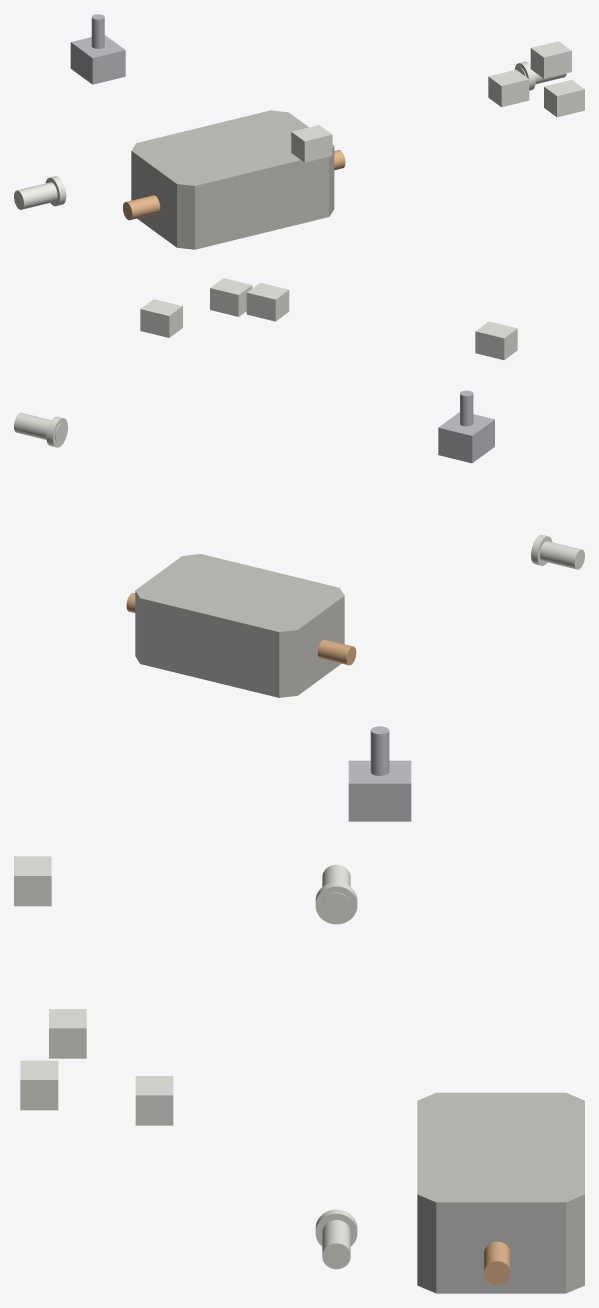
File: exploded.glb
3 views of the same model, one above another, from view 1: azimuth 30°, elevation 25°; view 2: azimuth 150°, elevation 25°; view 3: azimuth 270°, elevation 25° (orthographic). The views are drawn at different scales.
Visible parts, largest first — view 1: device_body, valve_stage, module_02, module_01, module_03, module_04, inlet_port, flow_channel, outlet_port; view 2: device_body, valve_stage, module_02, module_03, module_01, inlet_port, outlet_port, module_04, flow_channel; view 3: device_body, valve_stage, module_04, inlet_port, module_01, outlet_port, module_03, module_02, flow_channel.
Part boxes in pixels (box(x1,y1,x2,y2)): device_body: box(131, 110, 334, 249); valve_stage: box(70, 14, 125, 84); module_02: box(488, 69, 529, 107); module_01: box(530, 41, 571, 78); module_03: box(291, 125, 332, 162); module_04: box(544, 79, 584, 117); inlet_port: box(14, 176, 66, 209); flow_channel: box(123, 150, 345, 220); outlet_port: box(514, 61, 566, 90); device_body: box(135, 554, 344, 697); valve_stage: box(438, 390, 494, 463); module_02: box(246, 282, 289, 321); module_03: box(475, 321, 517, 359); module_01: box(140, 299, 182, 337); inlet_port: box(531, 534, 584, 569); outlet_port: box(14, 412, 67, 447); module_04: box(210, 278, 252, 316); flow_channel: box(126, 593, 356, 665); device_body: box(417, 1092, 584, 1293); valve_stage: box(348, 726, 411, 821); module_04: box(20, 1060, 58, 1110); inlet_port: box(315, 864, 357, 924); module_01: box(135, 1076, 173, 1125); outlet_port: box(315, 1209, 357, 1269); module_03: box(14, 856, 51, 906); module_02: box(49, 1009, 86, 1058); flow_channel: box(484, 1241, 510, 1285).
Bounding box in the file's own units: 11.38 × 5.39 × 7.25.
